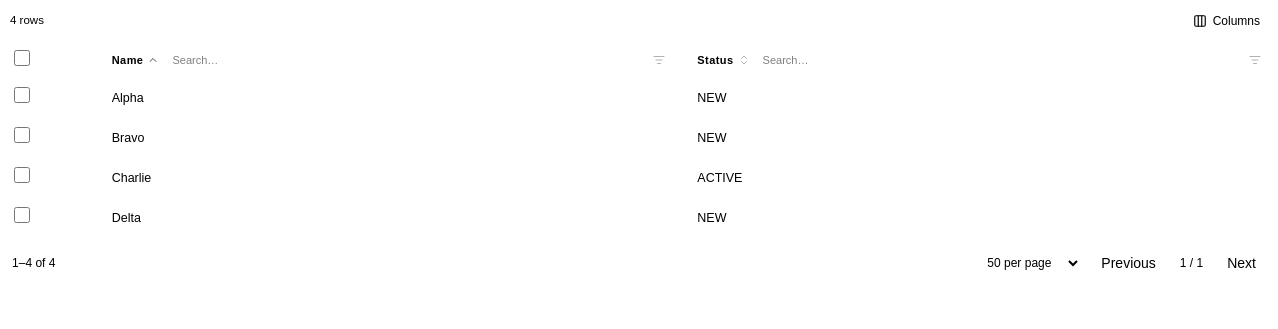
Scenario: DataTable selection + bulk edit › clears the selection once every row saved
Click the checkbox named "Select all rows on this page" at (22, 58), box [14, 50, 30, 66]
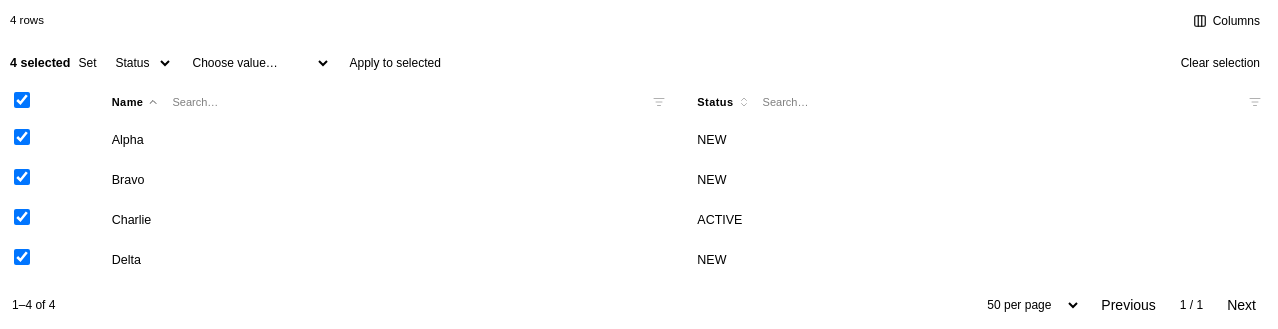
Select "Active" in the dropdown named "Value to apply" at (256, 63), box [182, 51, 332, 75]
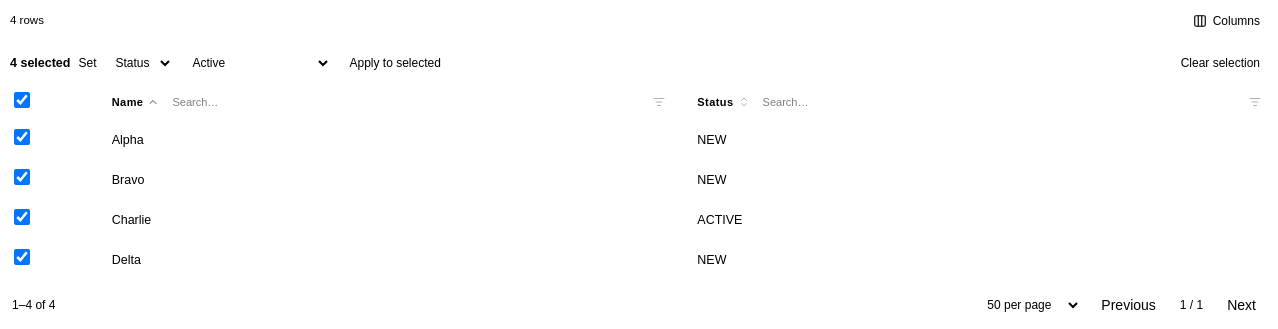
Click the button "Apply to selected" at (395, 63), box [340, 49, 451, 77]
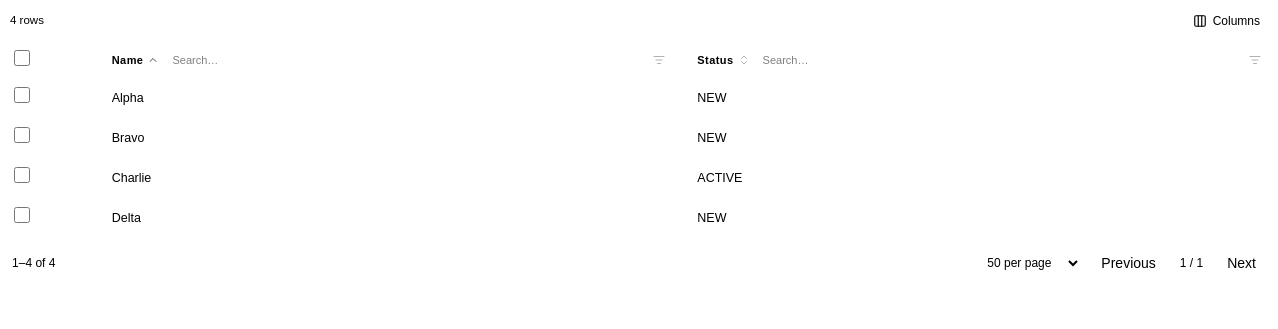
Result: the text "selected" is gone
